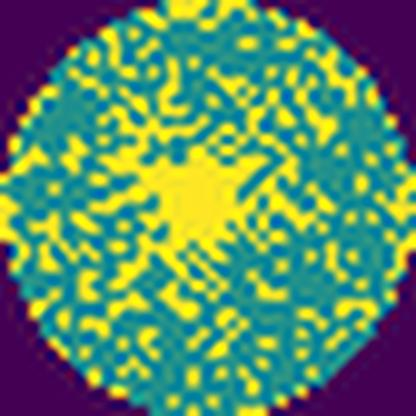Center: (86, 100, 322, 300)
